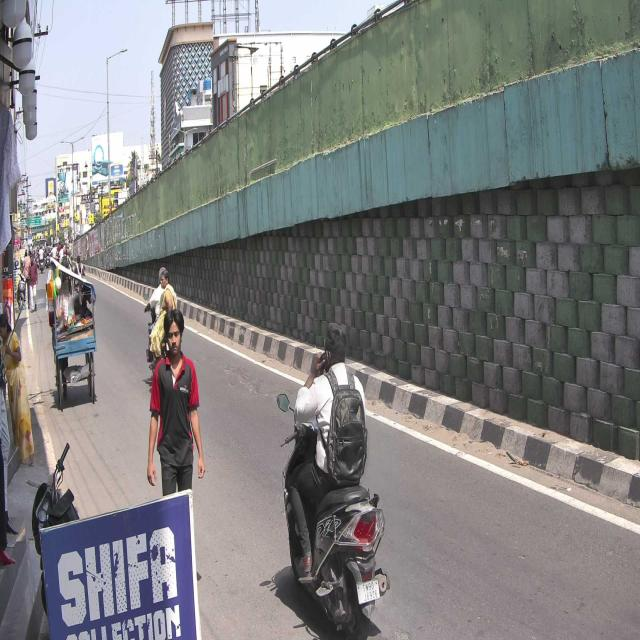single_rider: (281, 323, 390, 640)
